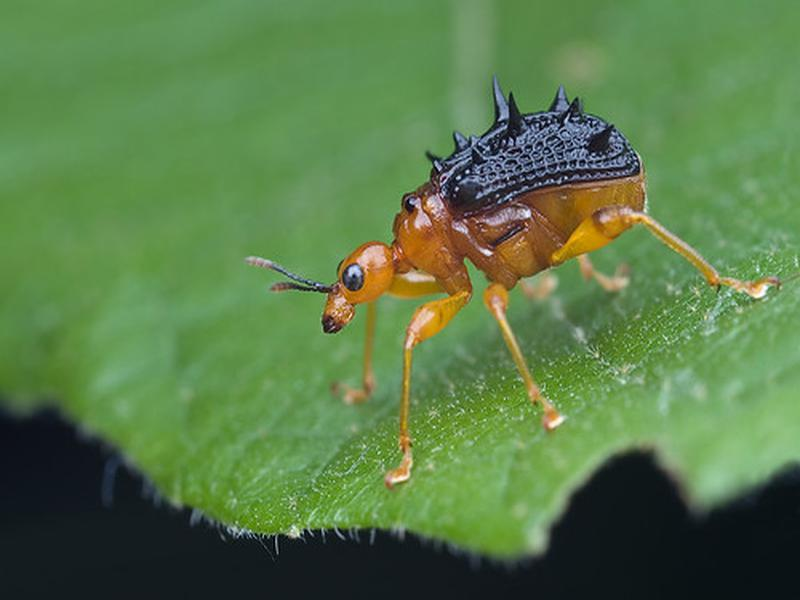Spiny_beetle: (249, 62, 744, 420)
